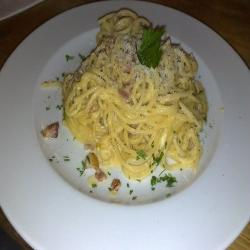carbonara: (54, 10, 220, 188)
